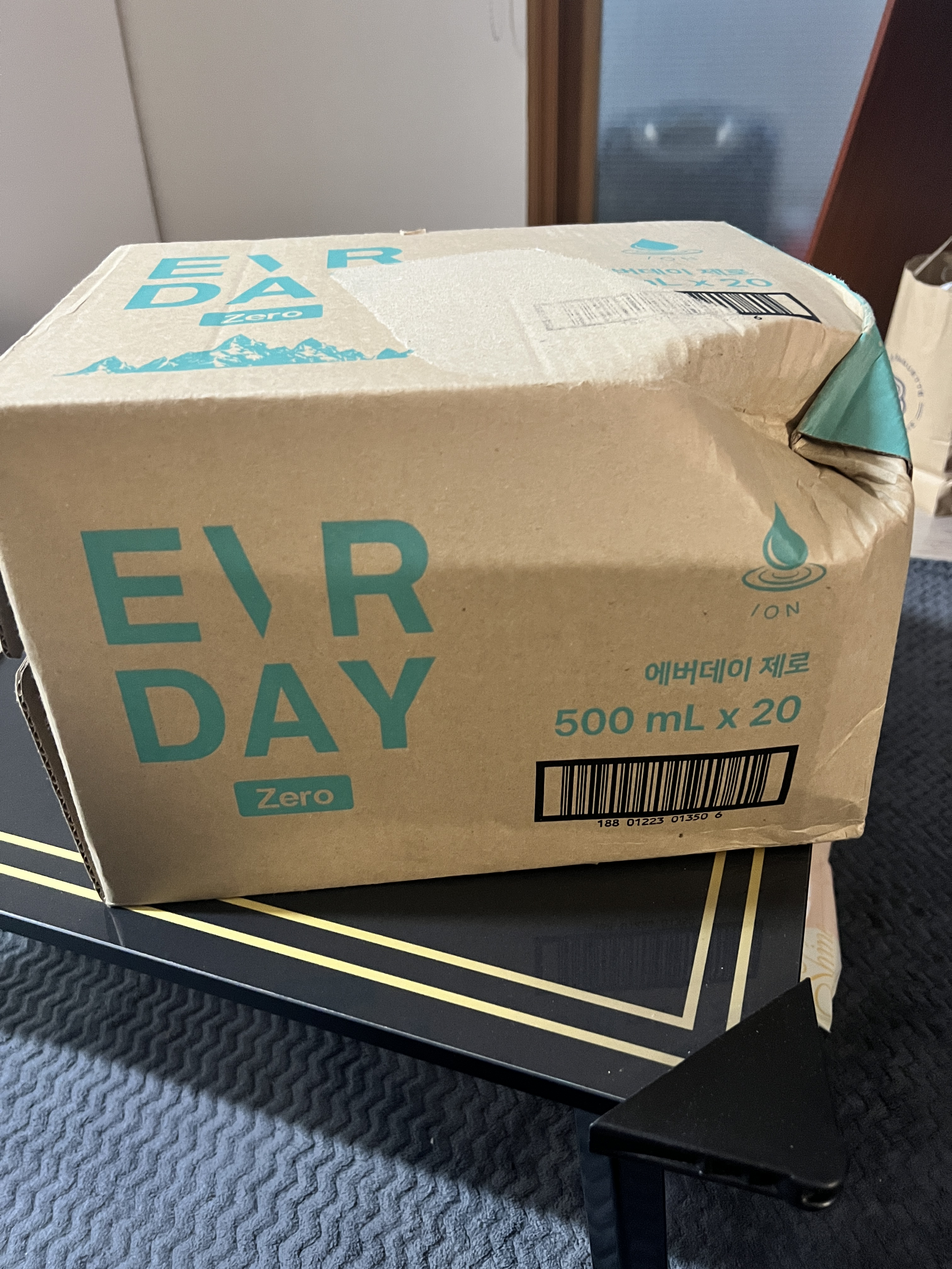damaged package: (639, 289, 927, 663)
